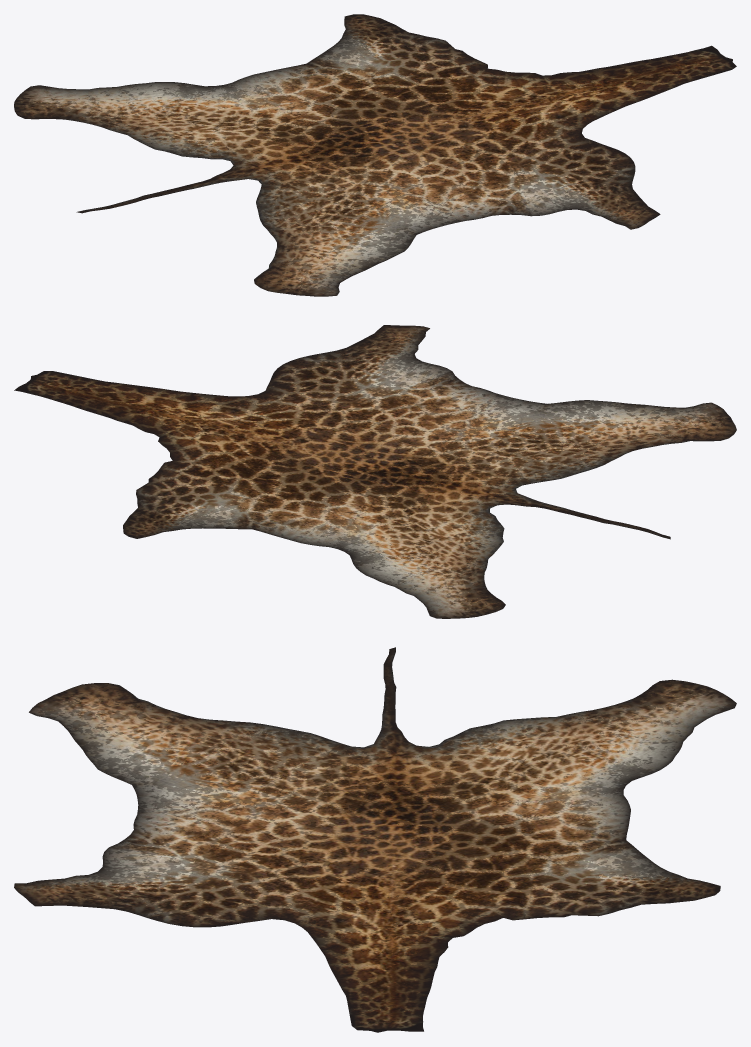
The model's file is SM_AnimalHide1.fbx.
The picture shows the model from 3 angles, top to bottom: view 1: azimuth 30°, elevation 25°; view 2: azimuth 150°, elevation 25°; view 3: azimuth 270°, elevation 25°; orthographic projection. The views are drawn at different scales.
Parts seen in each view (by area): view 1: SM_AnimalHide1_LOD0; view 2: SM_AnimalHide1_LOD0; view 3: SM_AnimalHide1_LOD0.
Part boxes in pixels (left/top/right/bottom): SM_AnimalHide1_LOD0: left=14, top=14, right=736, bottom=296; SM_AnimalHide1_LOD0: left=14, top=325, right=736, bottom=618; SM_AnimalHide1_LOD0: left=14, top=647, right=736, bottom=1032.
Bounding box in the file's own units: 621 × 492 × 7.63e-06.
Materials: 1 (1 with a texture image).
